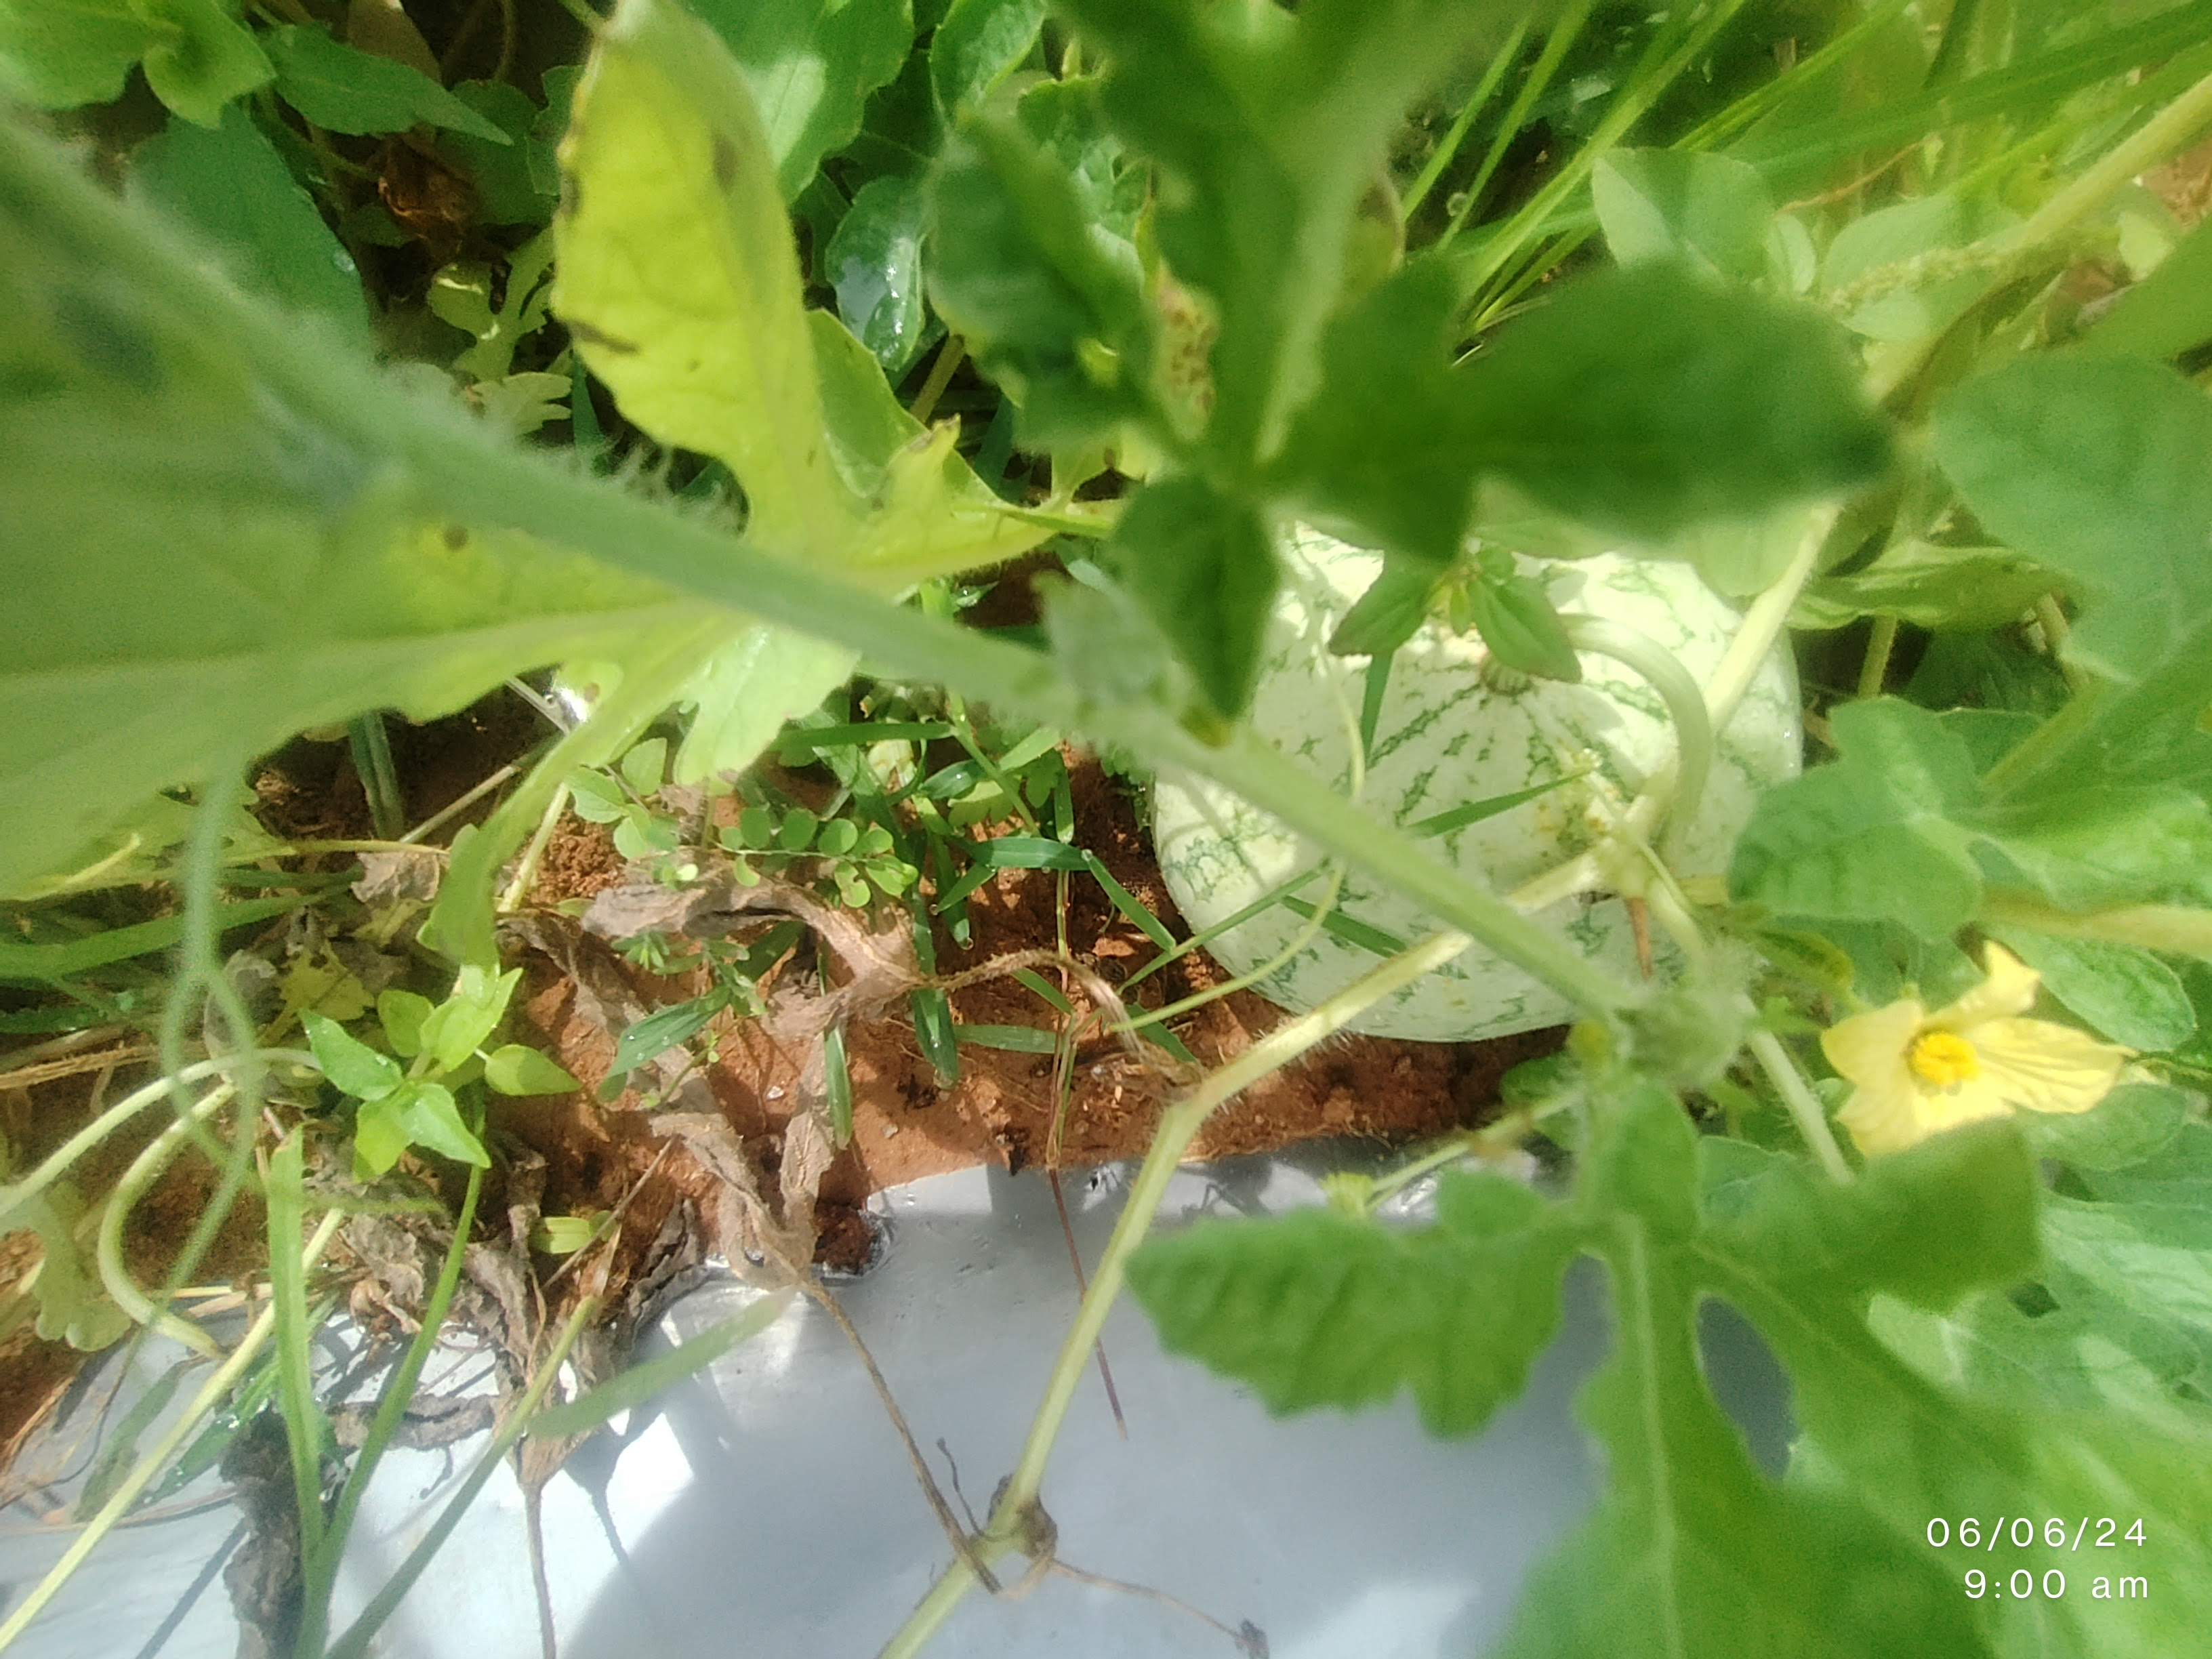good-to-harvest: (1144, 342, 1829, 1084)
